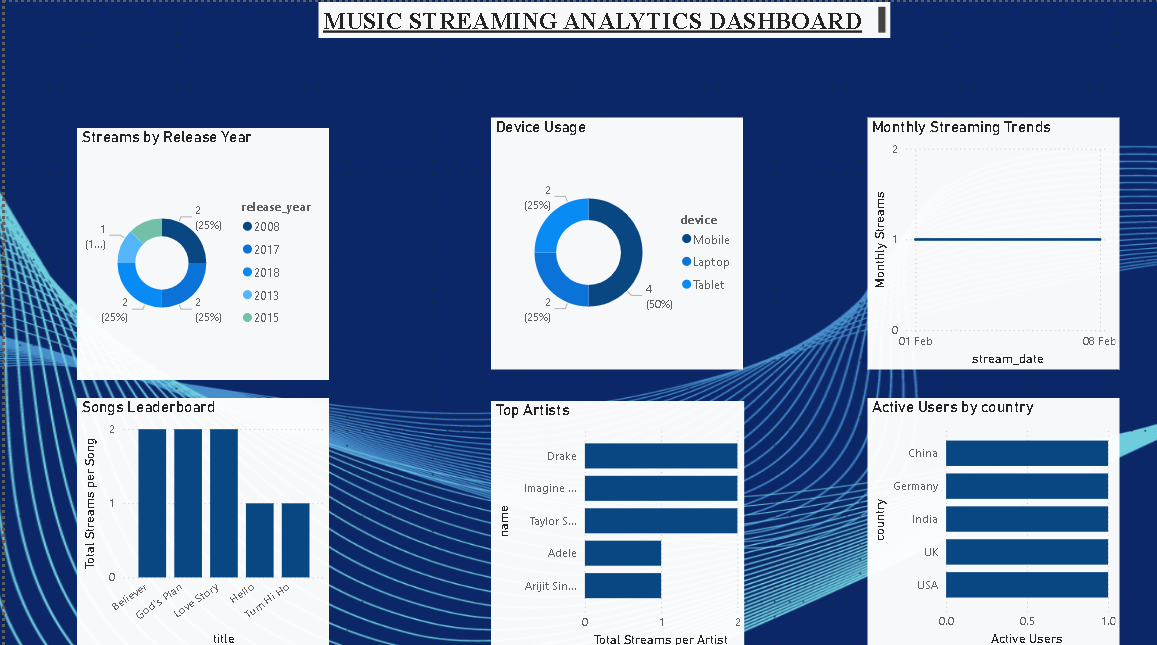

The page's visual inventory and layout, read from the dashboard file:
{"tool":"powerbi","page":{"name":"Page 1","canvas":[1280,720],"ordinal":0},"visuals":[{"type":"clusteredColumnChart","title":"Songs Leaderboard","fields":{"Y":["streams.Total Streams per Song"],"Category":["songs.title"]},"box":[80,440,280,280],"z":0},{"type":"clusteredBarChart","title":"Top Artists","fields":{"Category":["artists.name"],"Y":["streams.Total Streams per Artist"]},"box":[540,442.9,281.4,277.1],"z":1000},{"type":"donutChart","title":"Streams by Release Year","fields":{"Category":["songs.release_year"],"Y":["streams.Streams by Year"]},"box":[80,140,280,280],"z":2000},{"type":"donutChart","title":"Device Usage","fields":{"Category":["streams.device"],"Y":["streams.Total Streams by Device"]},"box":[540,128.6,280,280],"z":3000},{"type":"lineChart","title":"Monthly Streaming Trends","fields":{"Y":["streams.Monthly Streams"],"Category":["streams.stream_date"]},"box":[958.8,128.8,280,280],"z":4000},{"type":"clusteredBarChart","fields":{"Category":["users.country"],"Y":["streams.Active Users"]},"box":[958.6,440,280,280],"z":4001},{"type":"textbox","box":[348.8,0,635,40],"z":4002}]}

Visuals, with their boxes in screenshot pixels (x1, y1, x2, y2), scaled from the page's 1280x720 canvas onto the 1157x645 screenshot:
"Songs Leaderboard" clusteredColumnChart: bbox=[72, 394, 325, 644]
"Top Artists" clusteredBarChart: bbox=[488, 397, 742, 644]
"Streams by Release Year" donutChart: bbox=[72, 125, 325, 376]
"Device Usage" donutChart: bbox=[488, 115, 741, 366]
"Monthly Streaming Trends" lineChart: bbox=[867, 115, 1120, 366]
clusteredBarChart - users.country x streams.Active Users: bbox=[866, 394, 1120, 644]
textbox: bbox=[315, 0, 889, 36]
